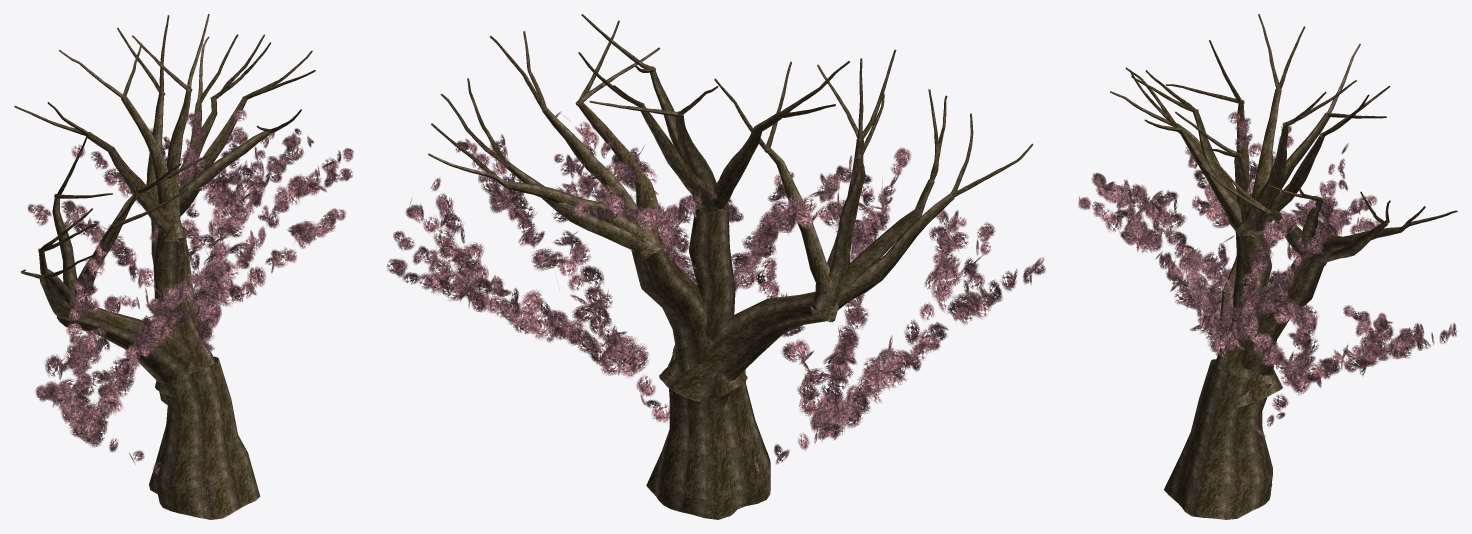
File: blossom_4x_1.glb
3 views of the same model, side by side, from view 1: azimuth 30°, elevation 25°; view 2: azimuth 150°, elevation 25°; view 3: azimuth 270°, elevation 25° (orthographic). The views are drawn at different scales.
Parts seen in each view (by area): view 1: blossom; view 2: blossom; view 3: blossom.
Boxes of the visible parts, <box> form: blossom: <box>14,14,353,519</box>; blossom: <box>386,14,1045,519</box>; blossom: <box>1078,14,1457,519</box>.
Bounding box in the file's own units: 60.19 × 60.19 × 48.13.
2 materials, 2 textured.
